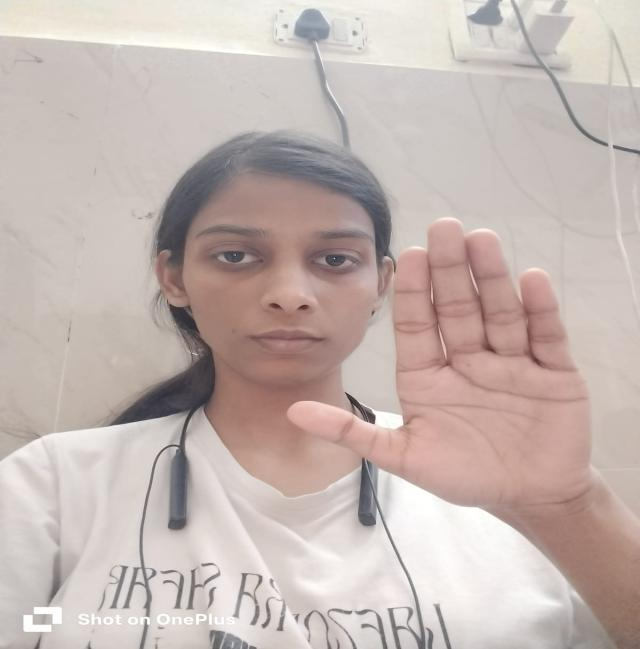Hello: (272, 206, 620, 534)
